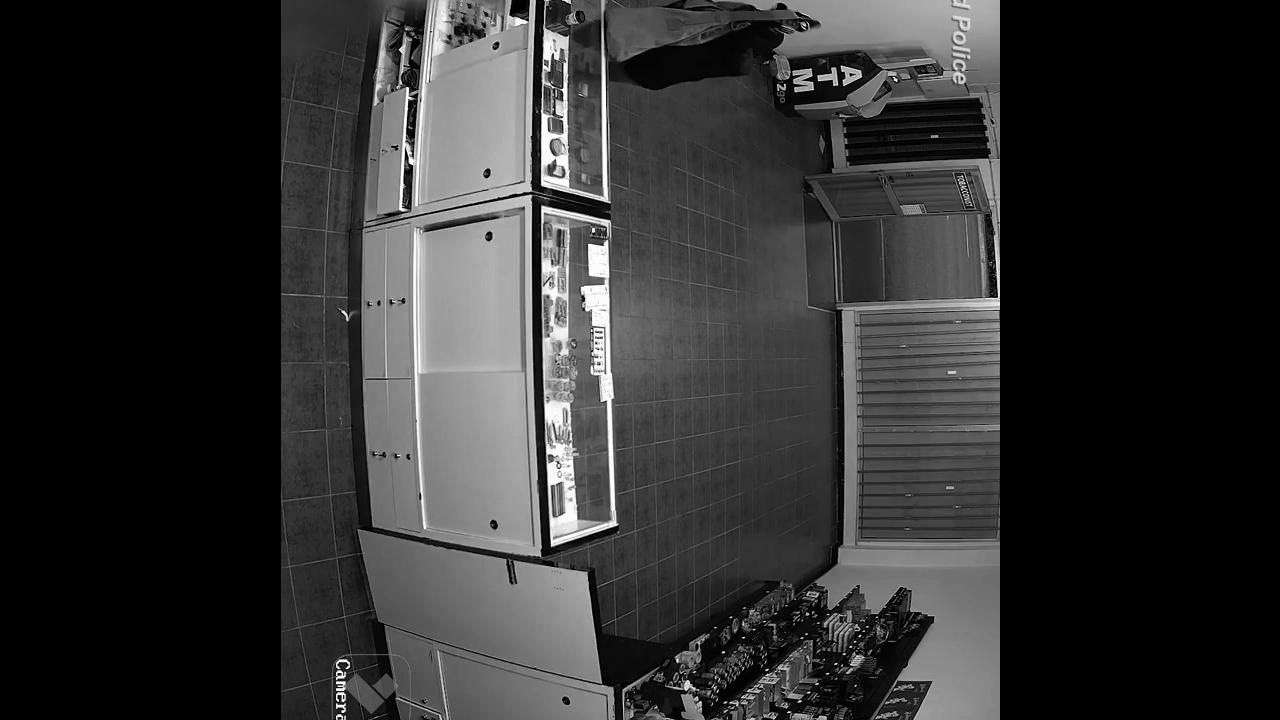melee: (690, 0, 745, 37)
